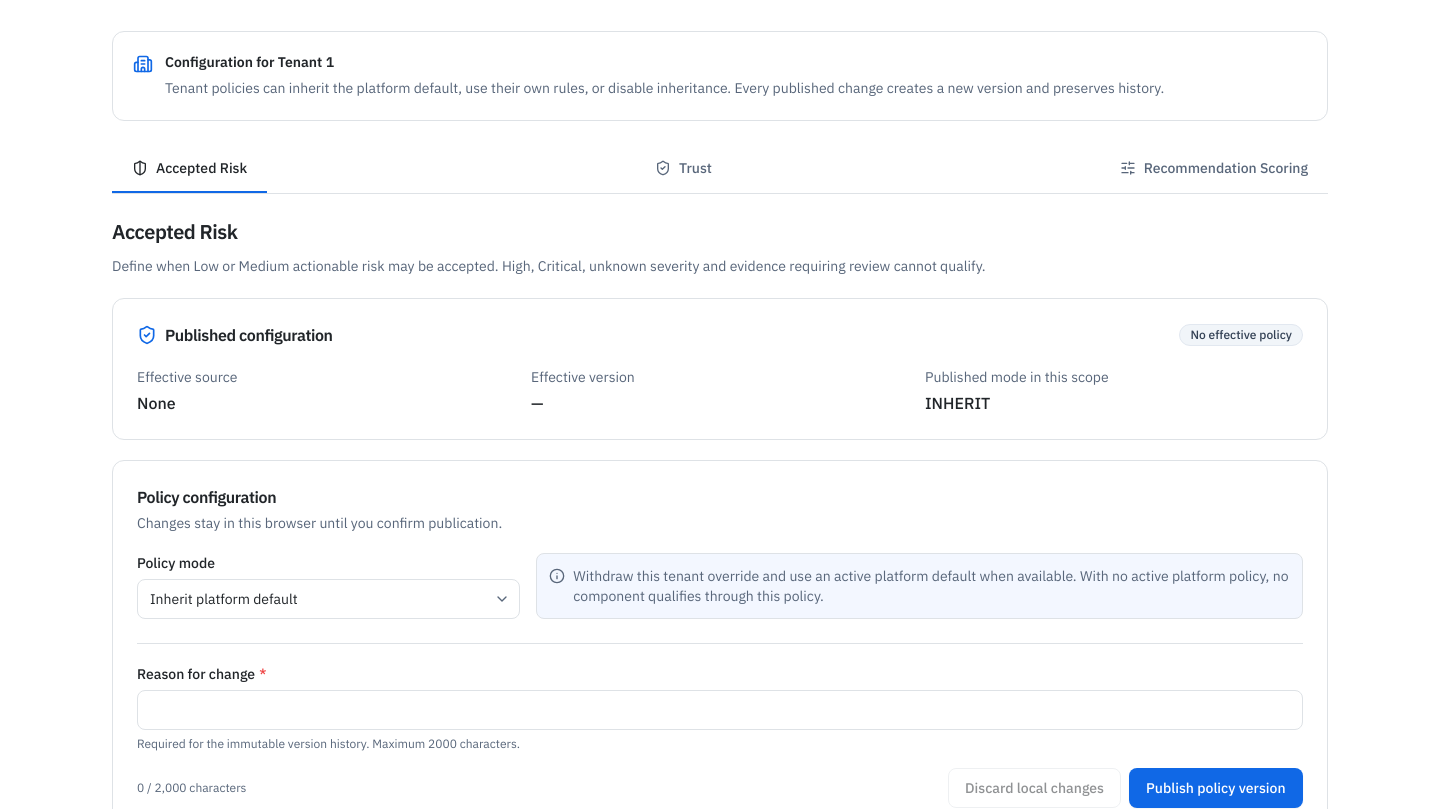
Test case: Tenant advisor policies › publishes a version scoped to the active tenant with concurrency token
Select "Use tenant policy" in the dropdown named "Accepted risk policy mode" at point(329, 599), box [137,579,520,619]
(page scrolled)
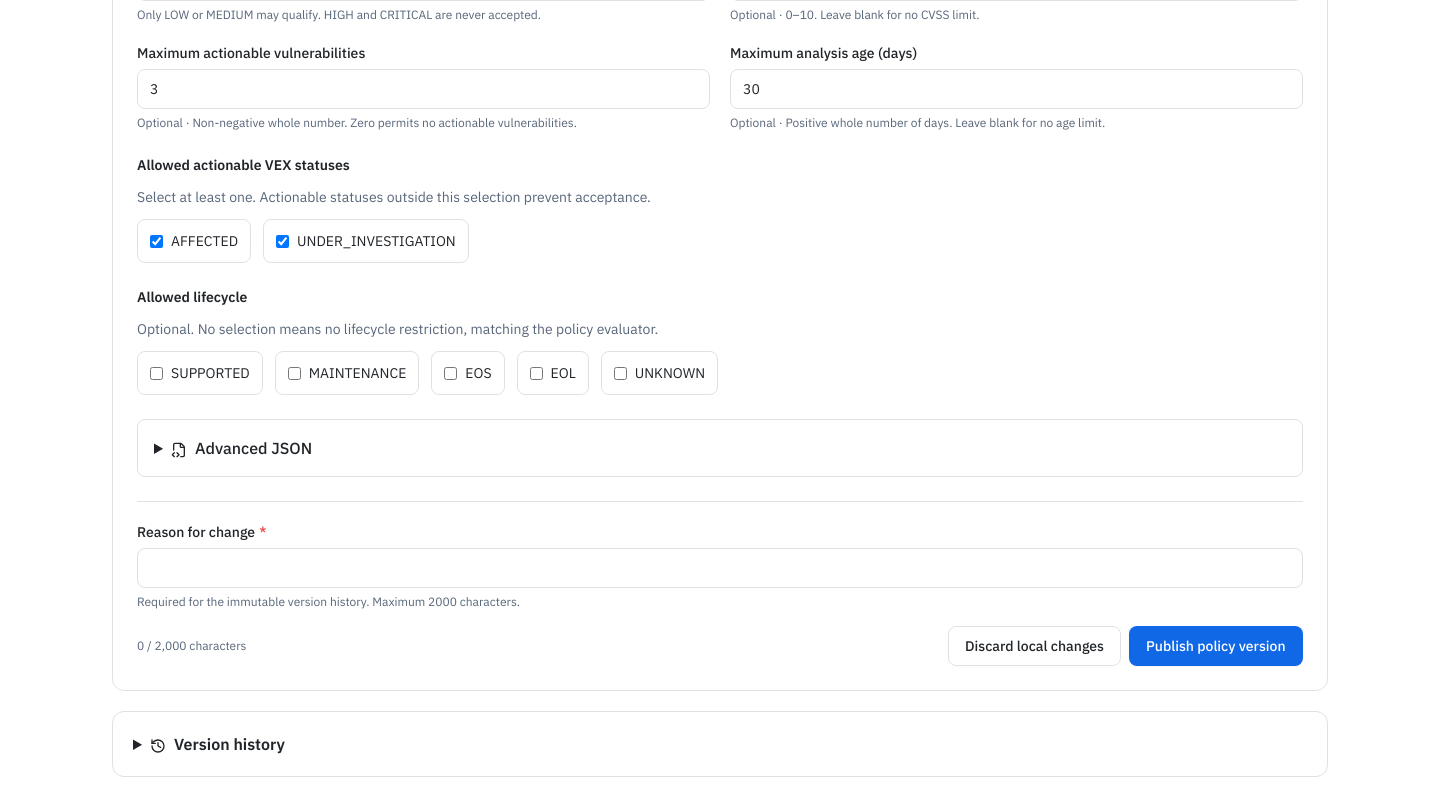
Type "Approved risk threshold" into the field named "Accepted risk reason".
click(720, 568); type("Approved risk threshold")  # box [137,548,1303,588]
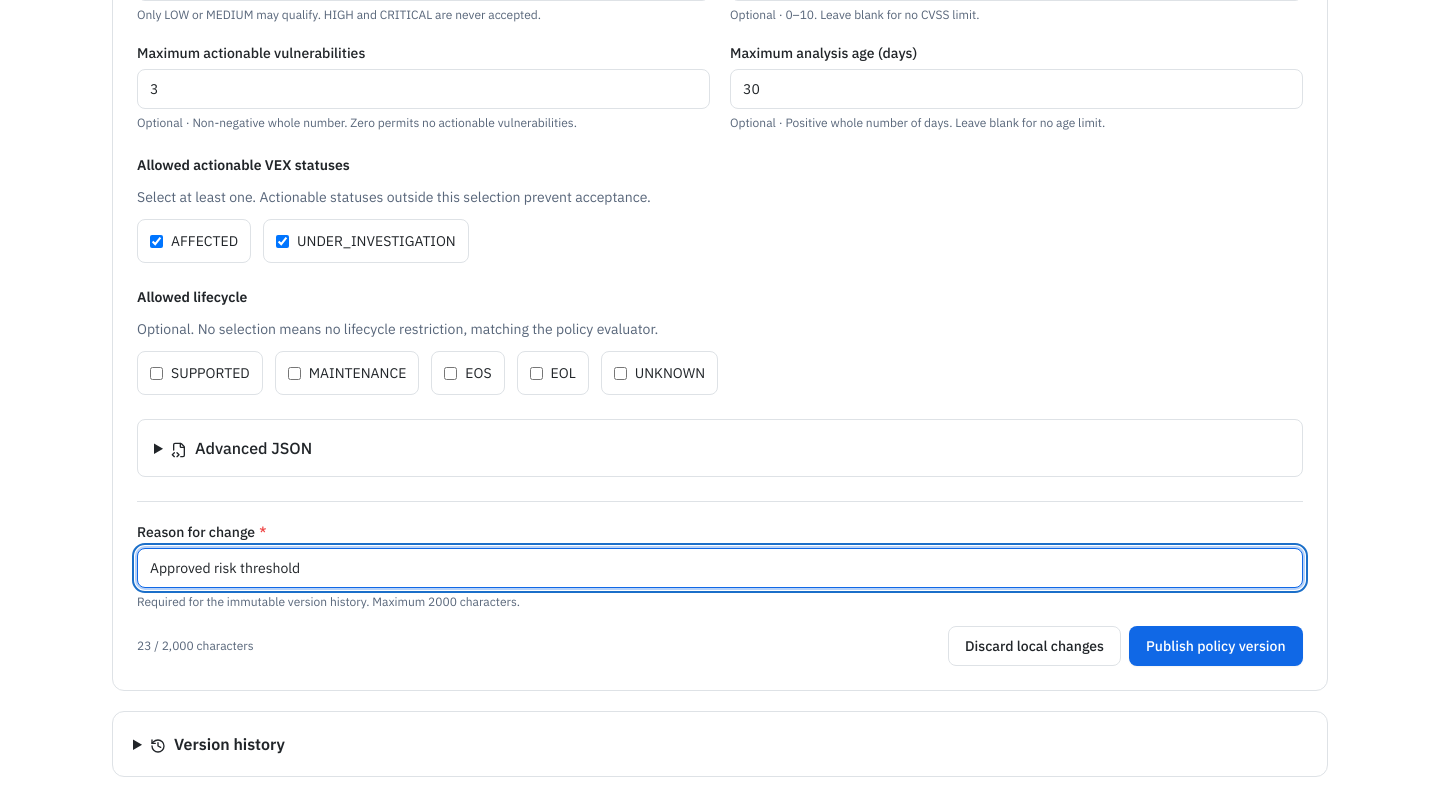
Click the button "Publish policy version".
click(1216, 646)  # box [1130,626,1303,666]
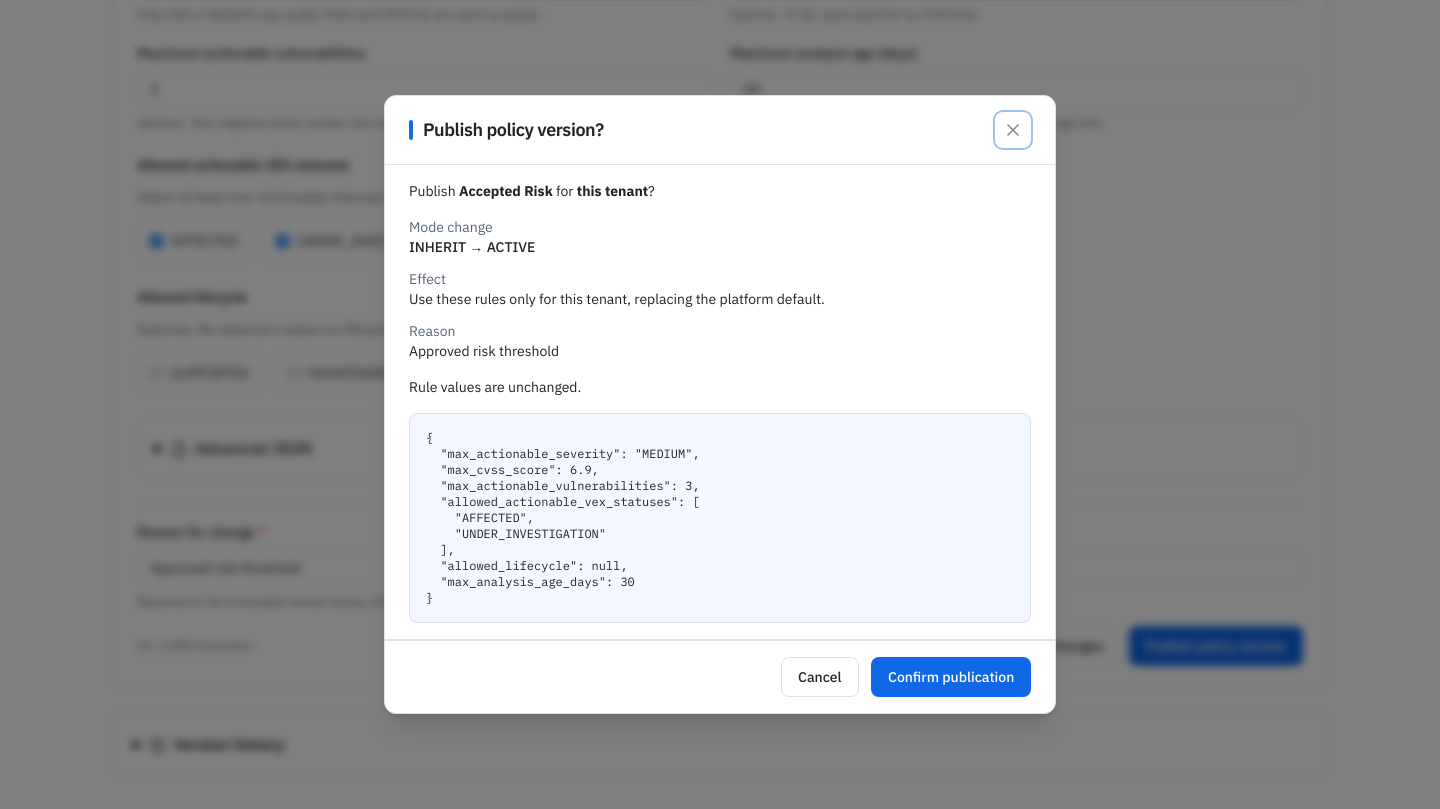
Click the button "Confirm publication".
click(951, 676)  # box [871,656,1031,696]
(page scrolled)
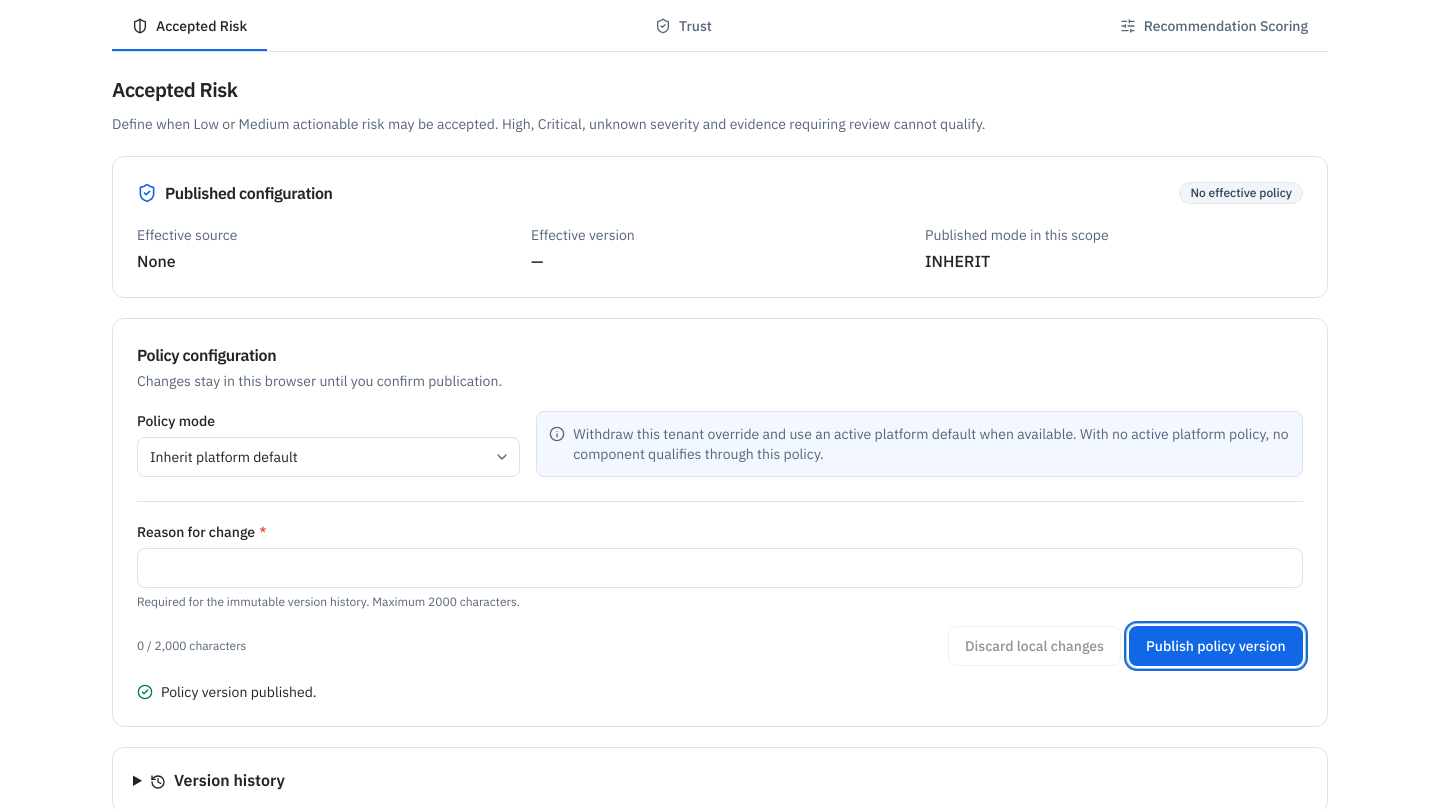
Expected: the text "Policy version published." is shown, [137,683,317,701]
